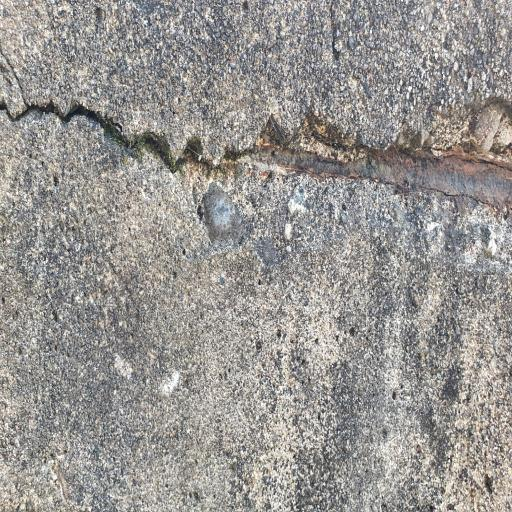exposed_rebar: (246, 146, 512, 213)
